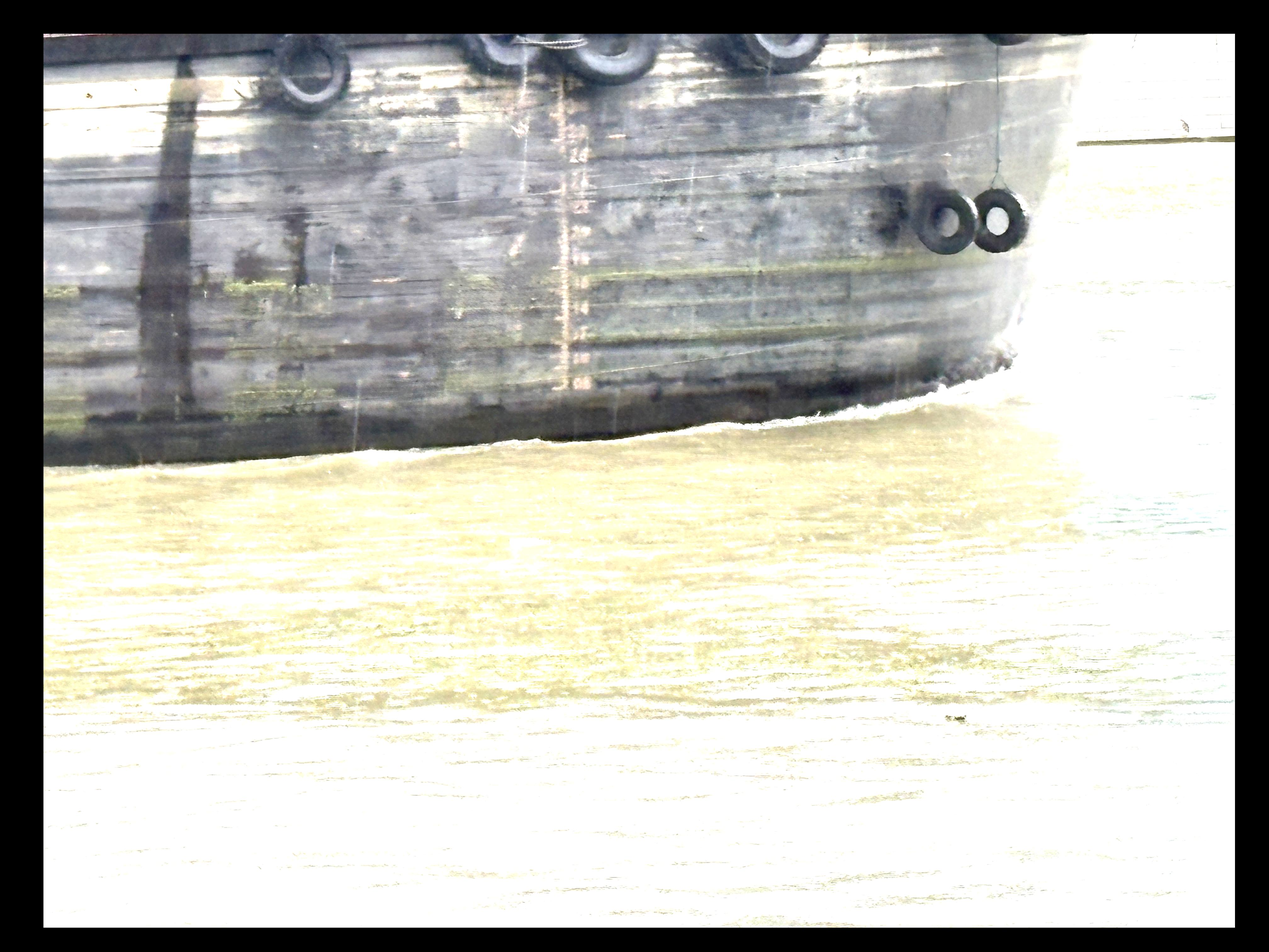Plastic wastes: (504, 530, 557, 550), (944, 705, 966, 724)
